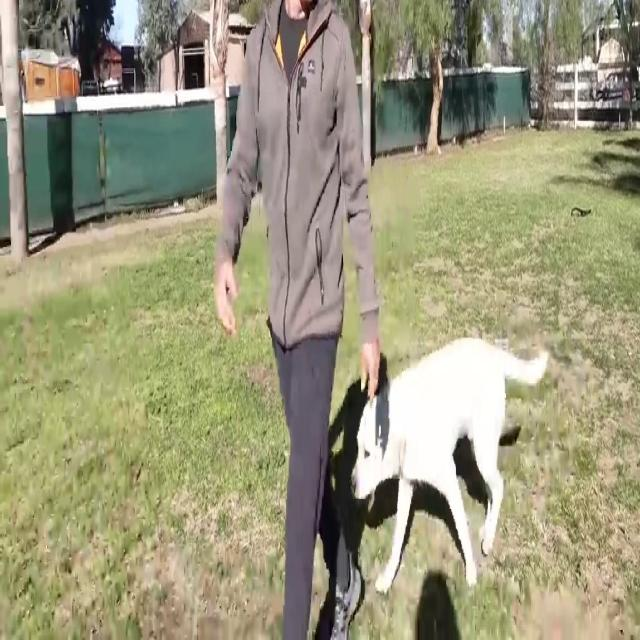Unleashed_Dog: (290, 326, 548, 596)
